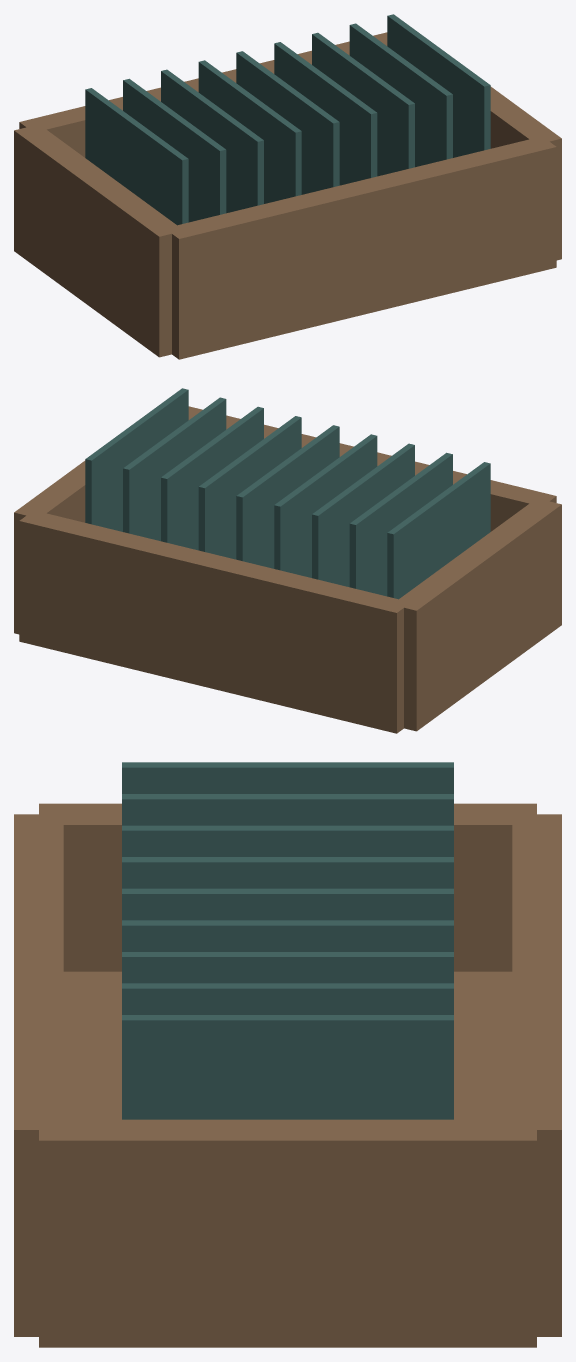
File: L-11_slide_case.glb
3 views of the same model, one above another, from view 1: azimuth 30°, elevation 25°; view 2: azimuth 150°, elevation 25°; view 3: azimuth 270°, elevation 25° (orthographic). The views are drawn at different scales.
Parts seen in each view (by area): view 1: L-11_slide_case; view 2: L-11_slide_case; view 3: L-11_slide_case.
Boxes of the visible parts, <box> form: L-11_slide_case: <box>14,14,561,359</box>; L-11_slide_case: <box>14,388,561,733</box>; L-11_slide_case: <box>14,762,561,1347</box>.
Bounding box in the file's own units: 0.192 × 0.0765 × 0.132.
